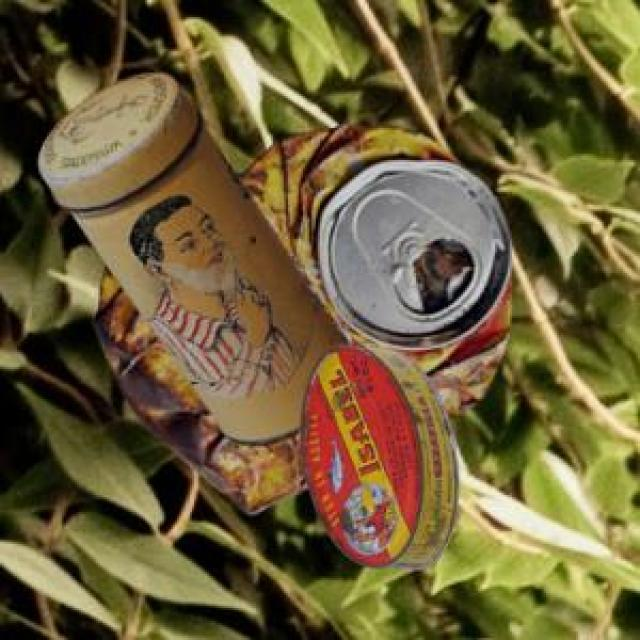Can: (91, 121, 509, 511), (35, 69, 345, 443), (298, 340, 455, 566)
